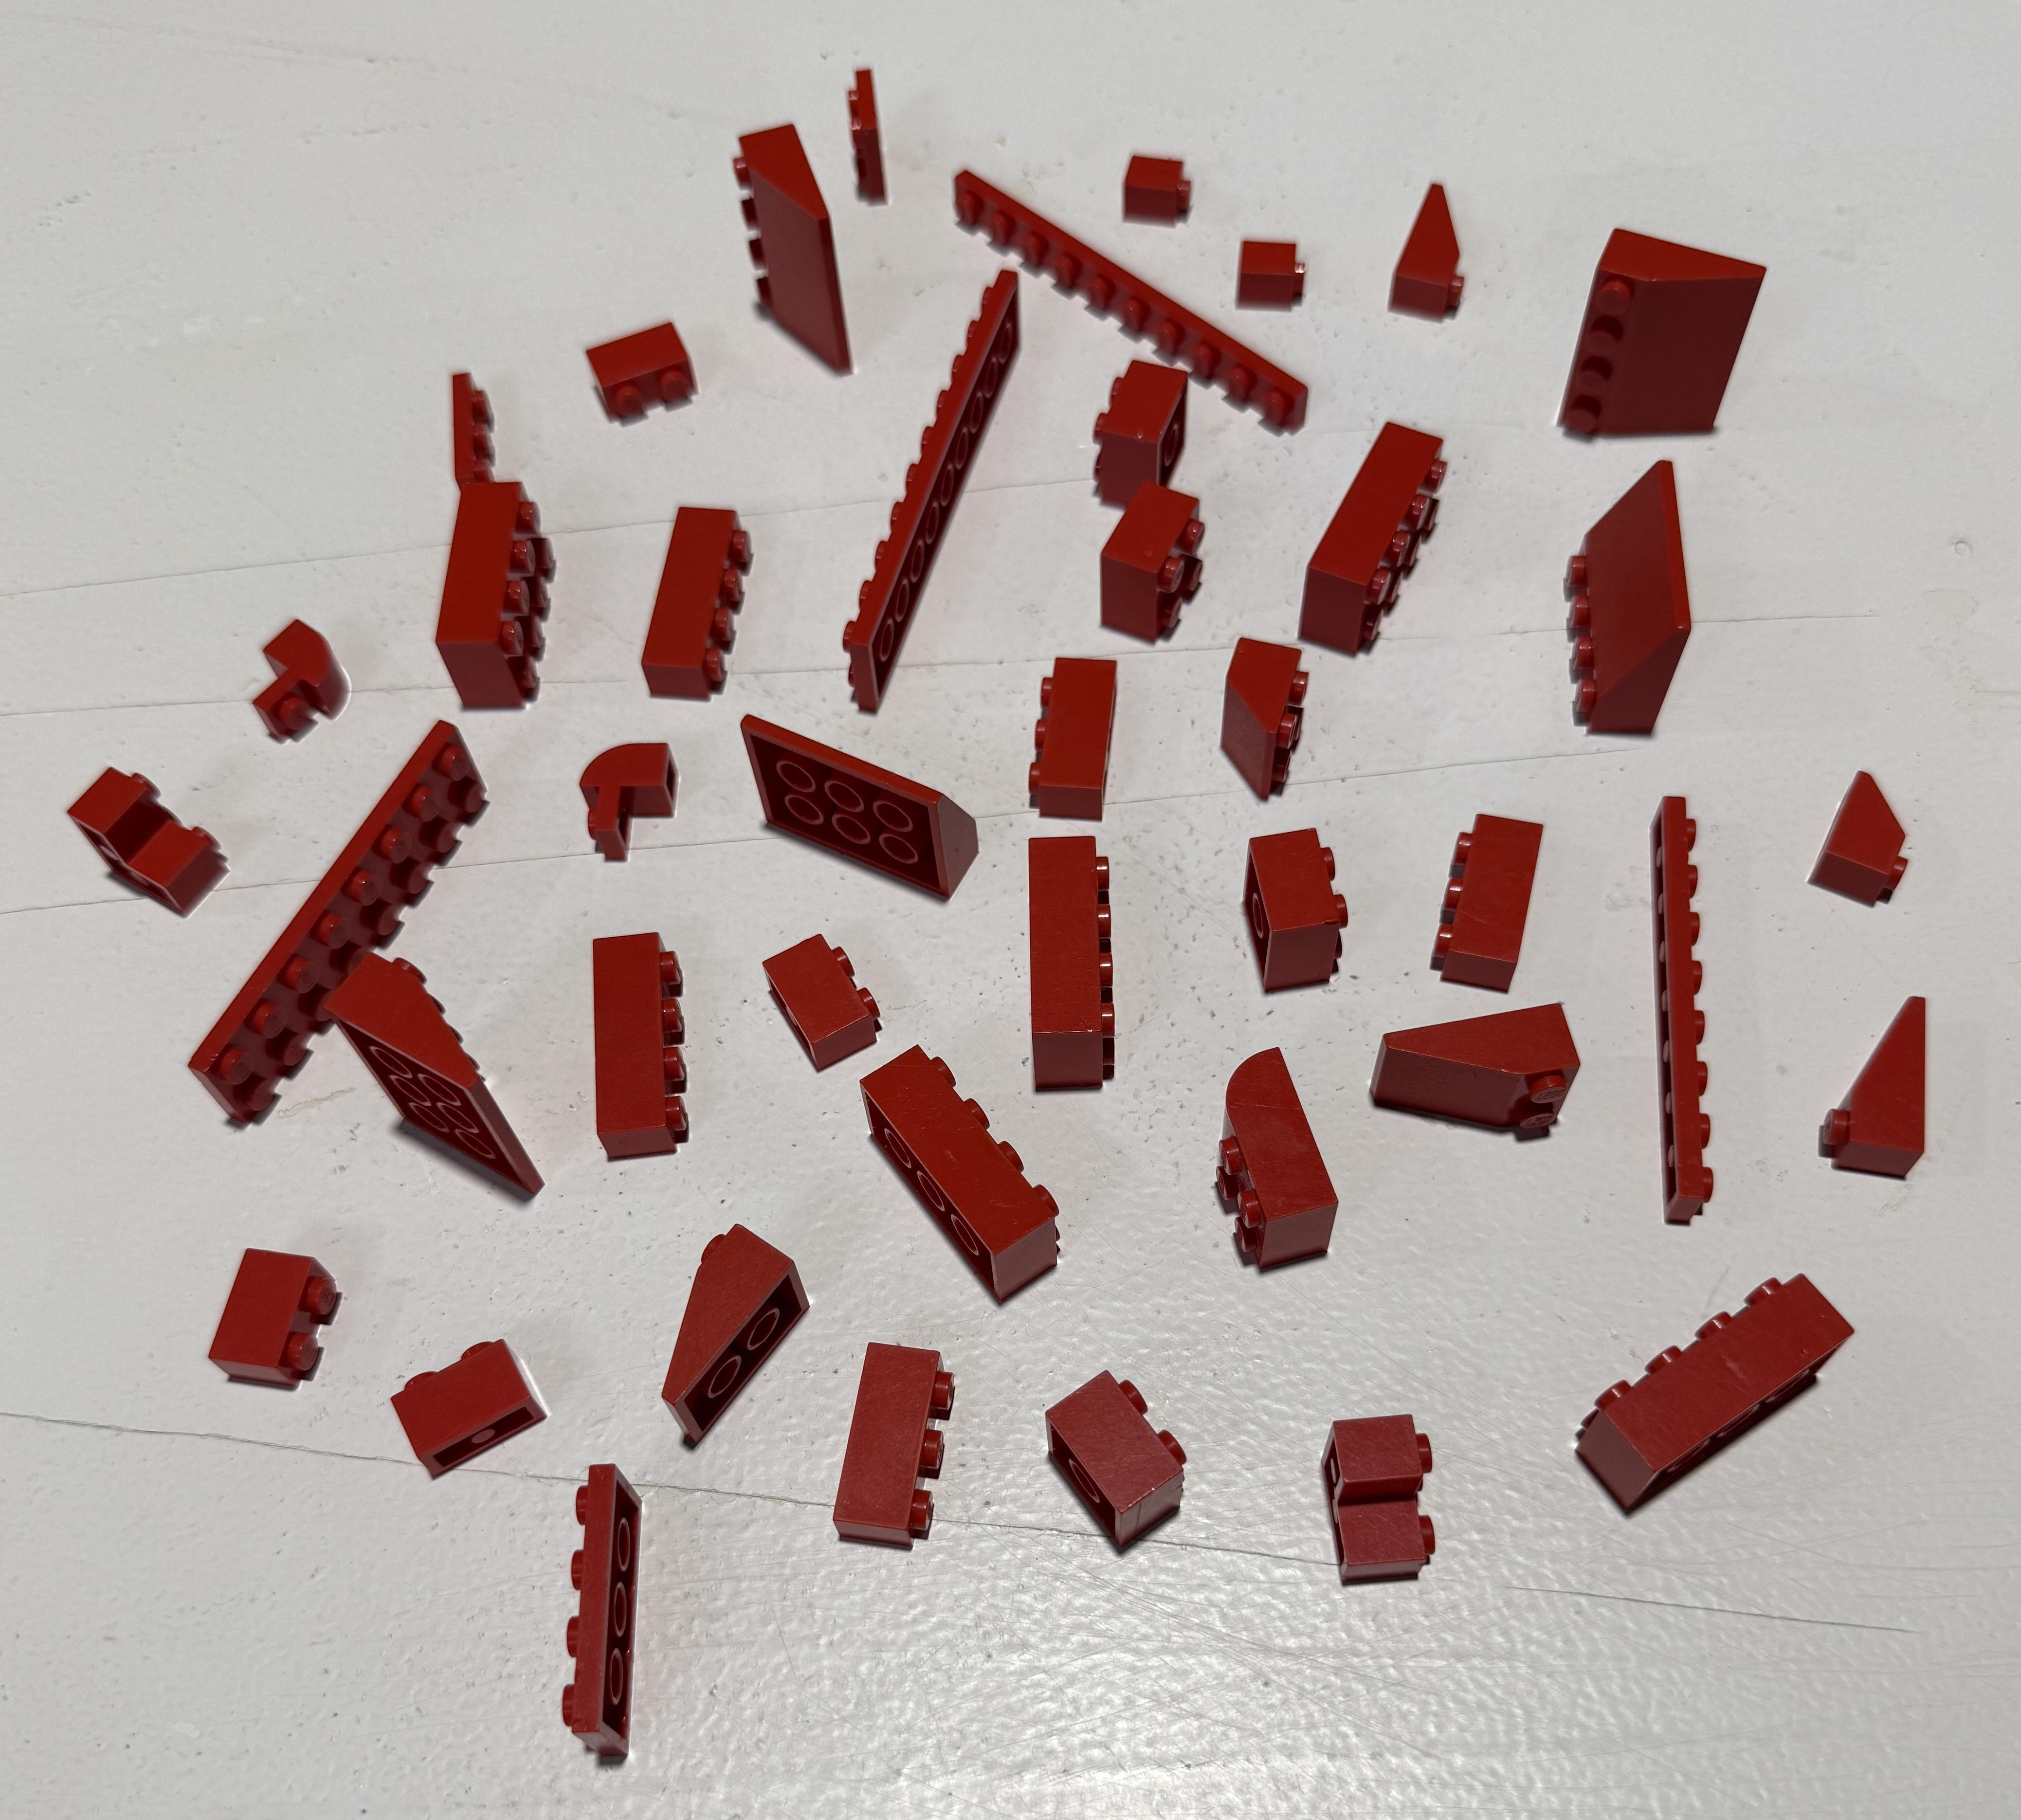Special_02: (316, 928, 569, 1217), (626, 1188, 835, 1481), (1353, 986, 1619, 1186), (1805, 970, 1996, 1216)
brick_1x1: (1093, 118, 1204, 232), (1232, 218, 1339, 334)
brick_1x2: (1012, 1342, 1234, 1578), (378, 1302, 564, 1509), (185, 1230, 357, 1425), (745, 903, 887, 1080), (568, 302, 719, 464)
brick_1x3: (808, 1319, 975, 1565), (1416, 784, 1578, 1003), (1005, 631, 1142, 834)
brick_1x4: (568, 914, 721, 1161), (1012, 813, 1135, 1096), (619, 490, 763, 701)
brick_2x2: (1213, 815, 1367, 1008), (1086, 476, 1230, 652), (1081, 341, 1200, 536)
brick_2x4: (1559, 1247, 1879, 1546), (847, 1017, 1074, 1311), (1286, 404, 1481, 675)
plate_2x2: (822, 56, 928, 232)
